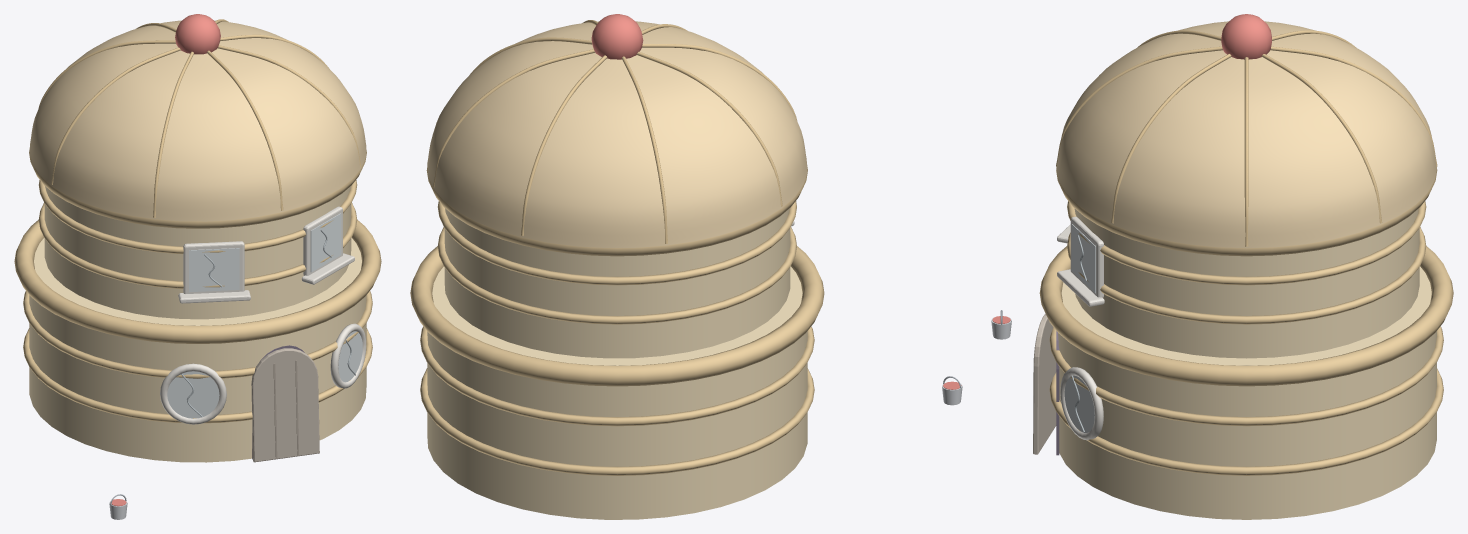
The model's file is building_dumpling_L04.glb.
The picture shows the model from 3 angles, left to right: view 1: azimuth 30°, elevation 25°; view 2: azimuth 150°, elevation 25°; view 3: azimuth 270°, elevation 25°; orthographic projection. The views are drawn at different scales.
Visible parts, largest first — view 1: Body; view 2: Body; view 3: Body.
Boxes of the visible parts, bbox=[...] form: Body: bbox=[14, 14, 381, 462]; Body: bbox=[410, 14, 824, 519]; Body: bbox=[1033, 14, 1453, 519].
Size of the model in its own units: 16.05 by 16.24 by 16.04.
